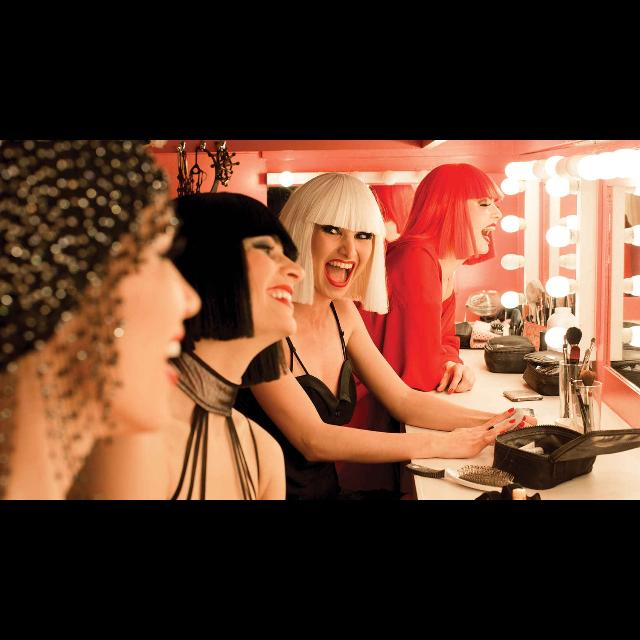head: (0, 140, 202, 436), (158, 190, 308, 348), (290, 180, 376, 300), (420, 164, 504, 256)
